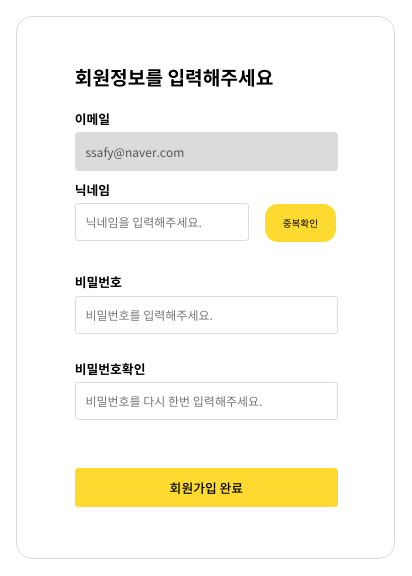
Scenario: 회원가입 디테일페이지 › 중복되지않은 닉네임
Type "notdupli" into the field with placeholder "닉네임을 입력해주세요." at (162, 222), box [75,203,249,241]
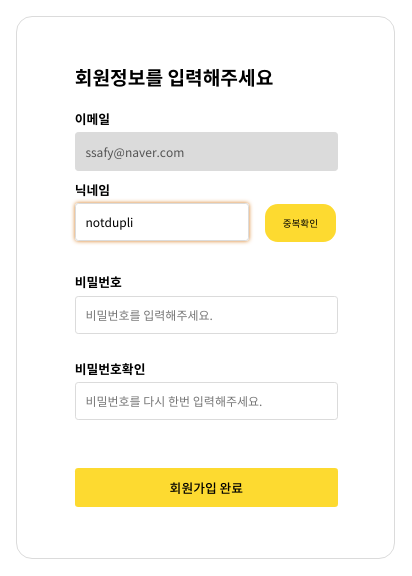
Click the button "중복확인" at (300, 223), box [265,204,336,242]
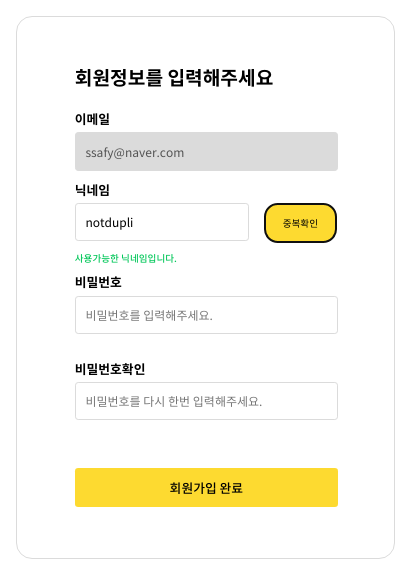
Expected: the text "사용가능한 닉네임입니다." is shown, [75,251,177,265]
